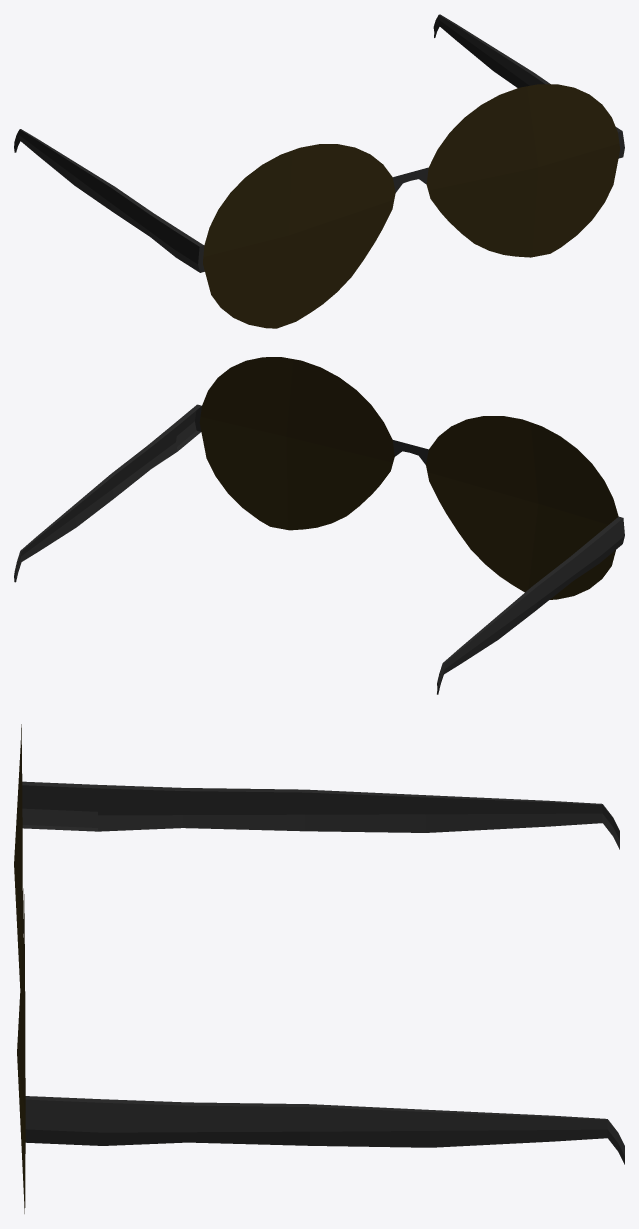
File: clarity_phantom.glb
3 renders of one model, top to bottom at view 1: azimuth 30°, elevation 25°; view 2: azimuth 150°, elevation 25°; view 3: azimuth 270°, elevation 25°, orthographic. The views are drawn at different scales.
Parts seen in each view (by area): view 1: sunglasses; view 2: sunglasses; view 3: sunglasses.
Part boxes in pixels (x1,y1,x2,y2): sunglasses: (14, 14, 624, 328); sunglasses: (14, 357, 624, 694); sunglasses: (14, 724, 624, 1213).
Bounding box in the file's own units: 504 × 203 × 384.
